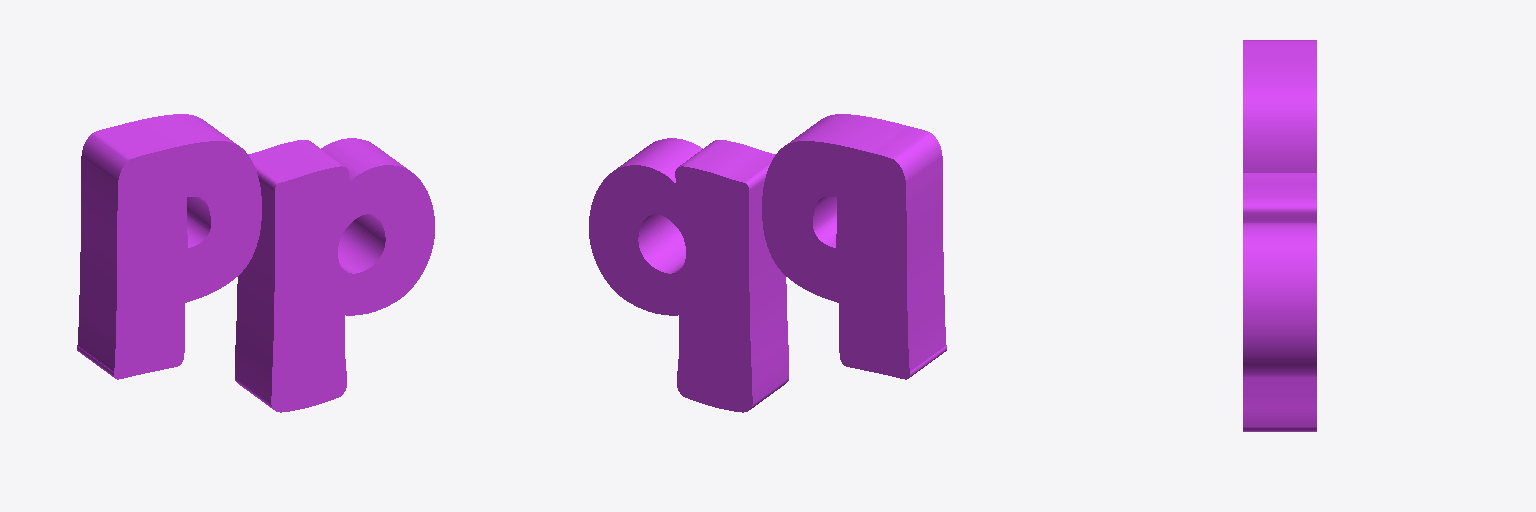
Rendered from Letter_p.obj.
The picture shows the model from 3 angles: view 1: azimuth 30°, elevation 25°; view 2: azimuth 150°, elevation 25°; view 3: azimuth 270°, elevation 25°; orthographic projection.
Visible parts, largest first — view 1: Text; view 2: Text; view 3: Text.
Boxes of the visible parts, <box> form: Text: <box>77,114,434,412</box>; Text: <box>589,114,946,412</box>; Text: <box>1243,40,1316,431</box>.
Size of the model in its own units: 1.01 by 0.879 by 0.2.